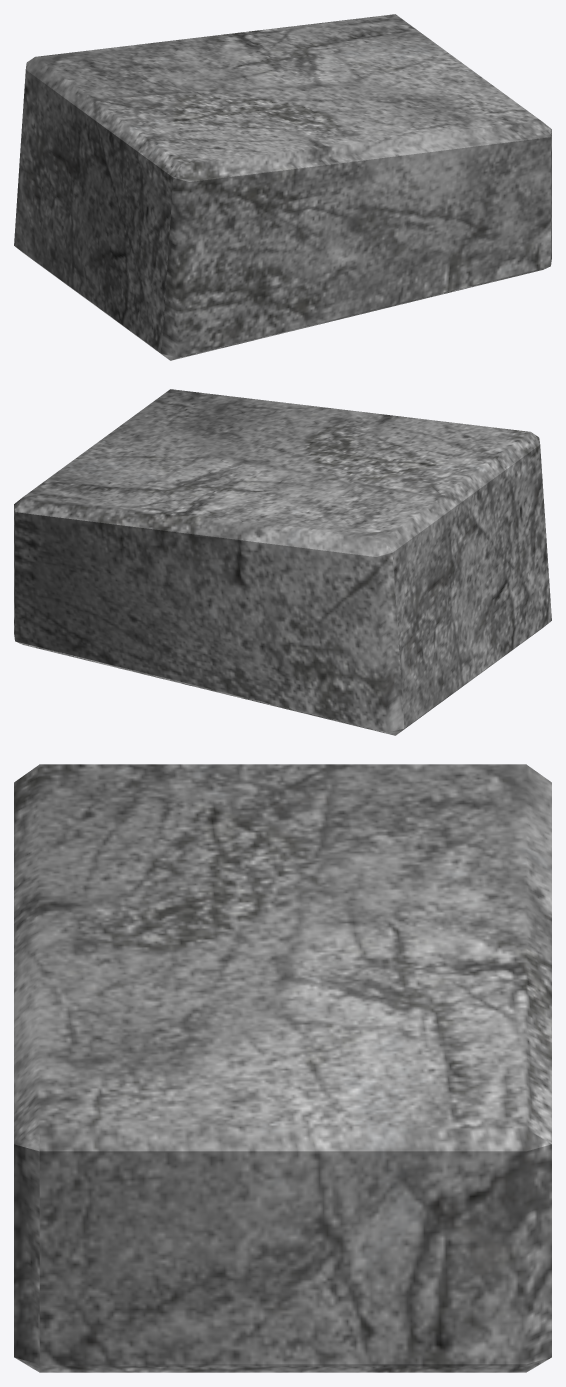
Rendered from materials_3_rubble_0.fbx.
3 renders of one model, top to bottom at view 1: azimuth 30°, elevation 25°; view 2: azimuth 150°, elevation 25°; view 3: azimuth 270°, elevation 25°, orthographic. The views are drawn at different scales.
Parts seen in each view (by area): view 1: materials_3_rubble_0; view 2: materials_3_rubble_0; view 3: materials_3_rubble_0.
Part boxes in pixels (x1,y1,x2,y2): materials_3_rubble_0: (14, 14, 551, 360); materials_3_rubble_0: (14, 389, 551, 735); materials_3_rubble_0: (14, 764, 551, 1372).
Bounding box in the file's own units: 37.27 × 17.61 × 26.98.
